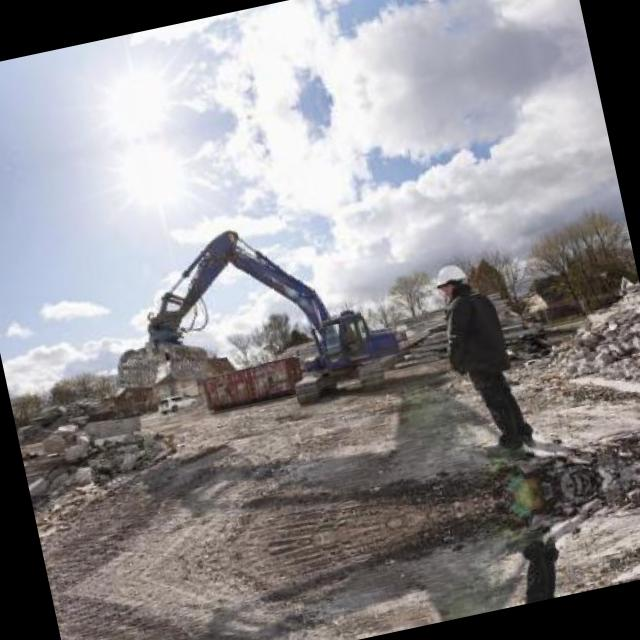helmet: (429, 260, 468, 300)
